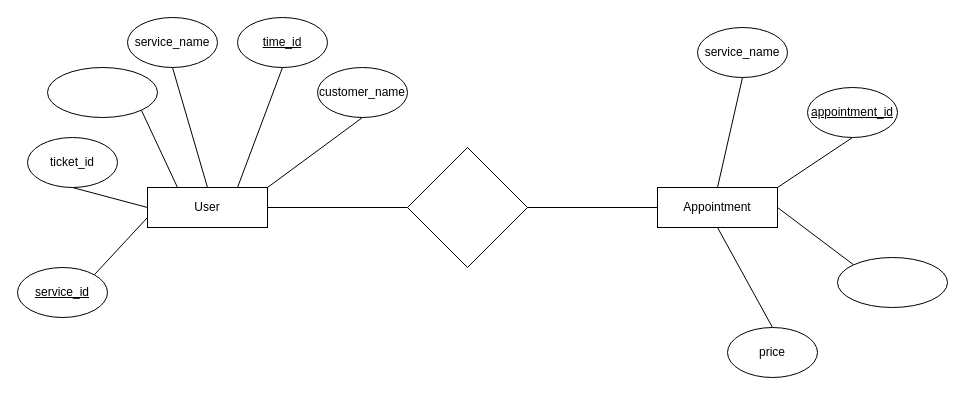
The diagram is 965 pixels wide and 395 high, and some of its shapes have lost their labels. The shapes that lost their labels are listed below. From the top down, each one's centre as x and y in pixels, then its label:
the point at 102,92: customer_number
the point at 467,207: Books
the point at 892,282: appointment_time
